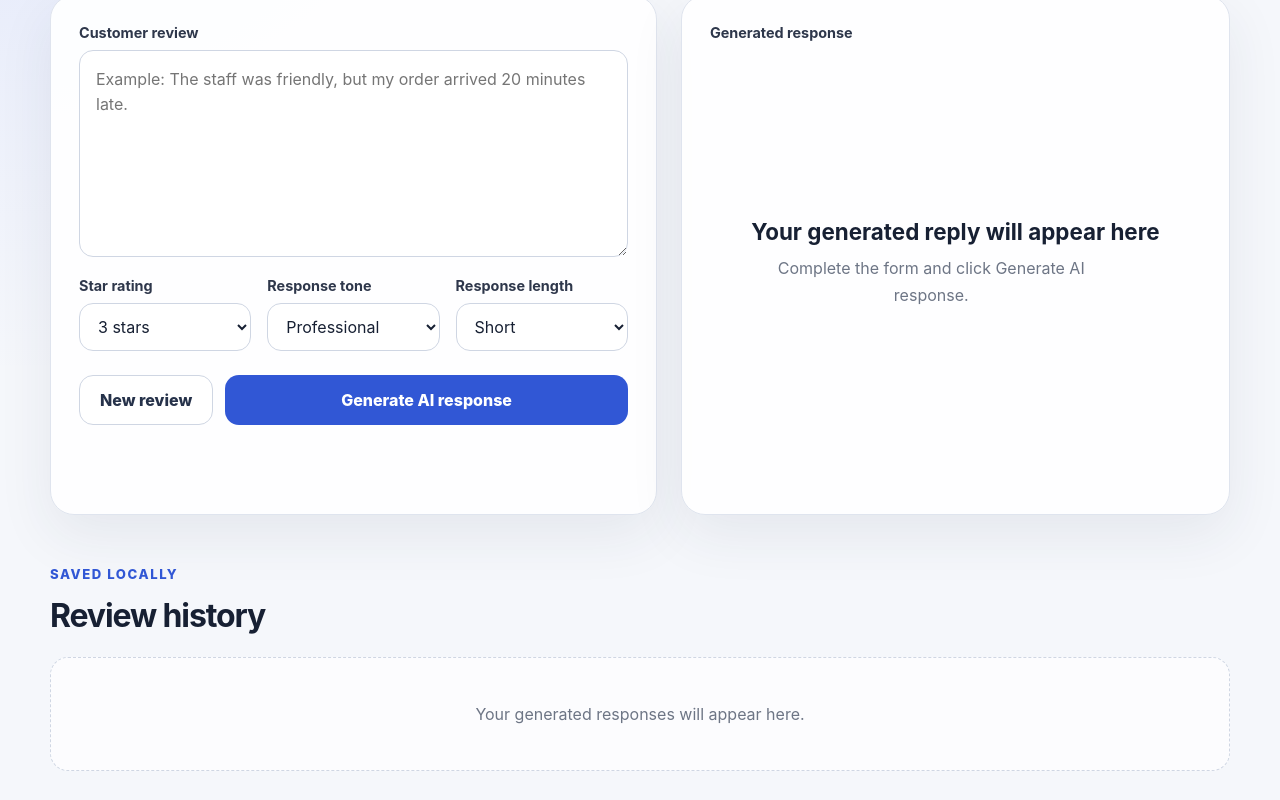
Scenario: ReviewFlow › shows a validation message when the review is empty
(page scrolled)
Click the button "Generate AI response" at (427, 400), box [225, 375, 628, 425]
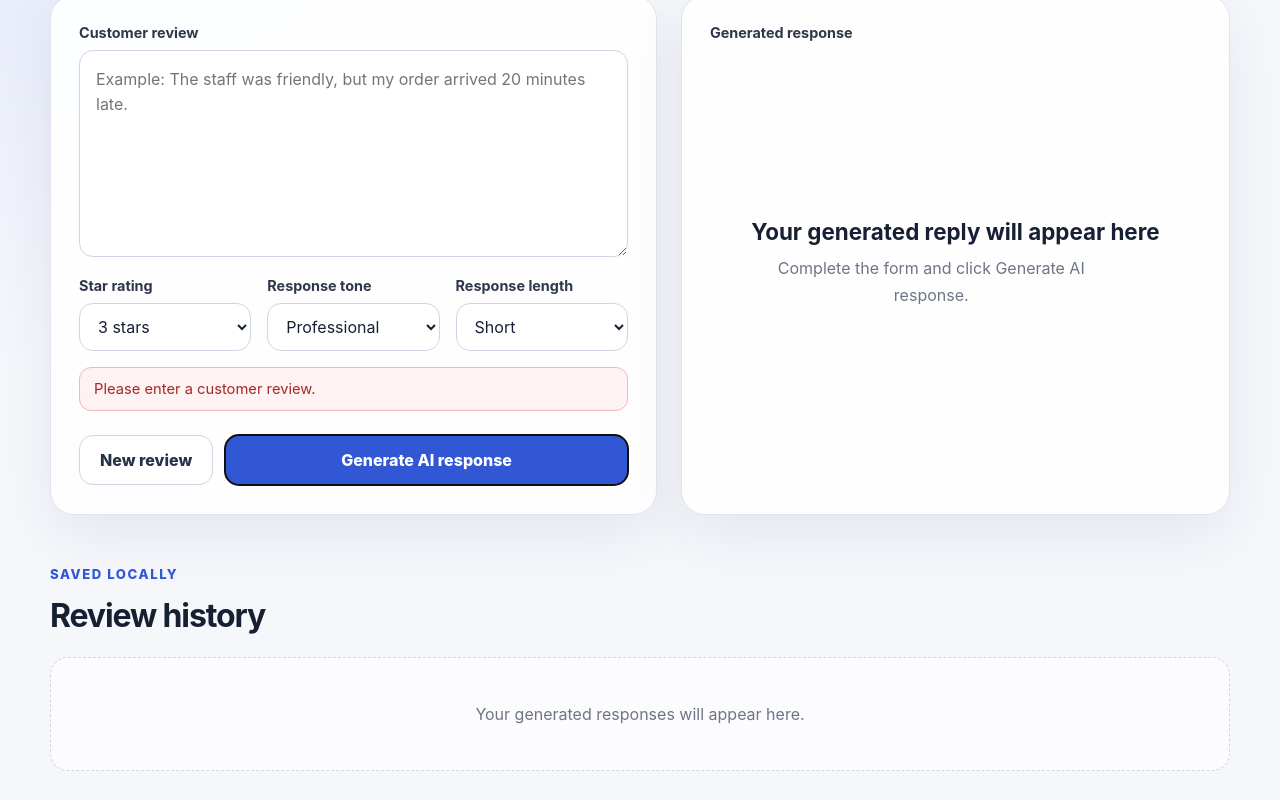
Now the text "Please enter a customer review." is shown, box [79, 367, 628, 411]
